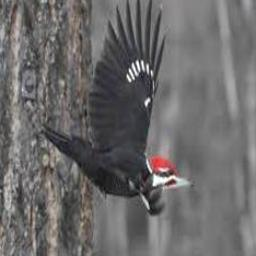Woodpecker: (39, 0, 195, 214)
